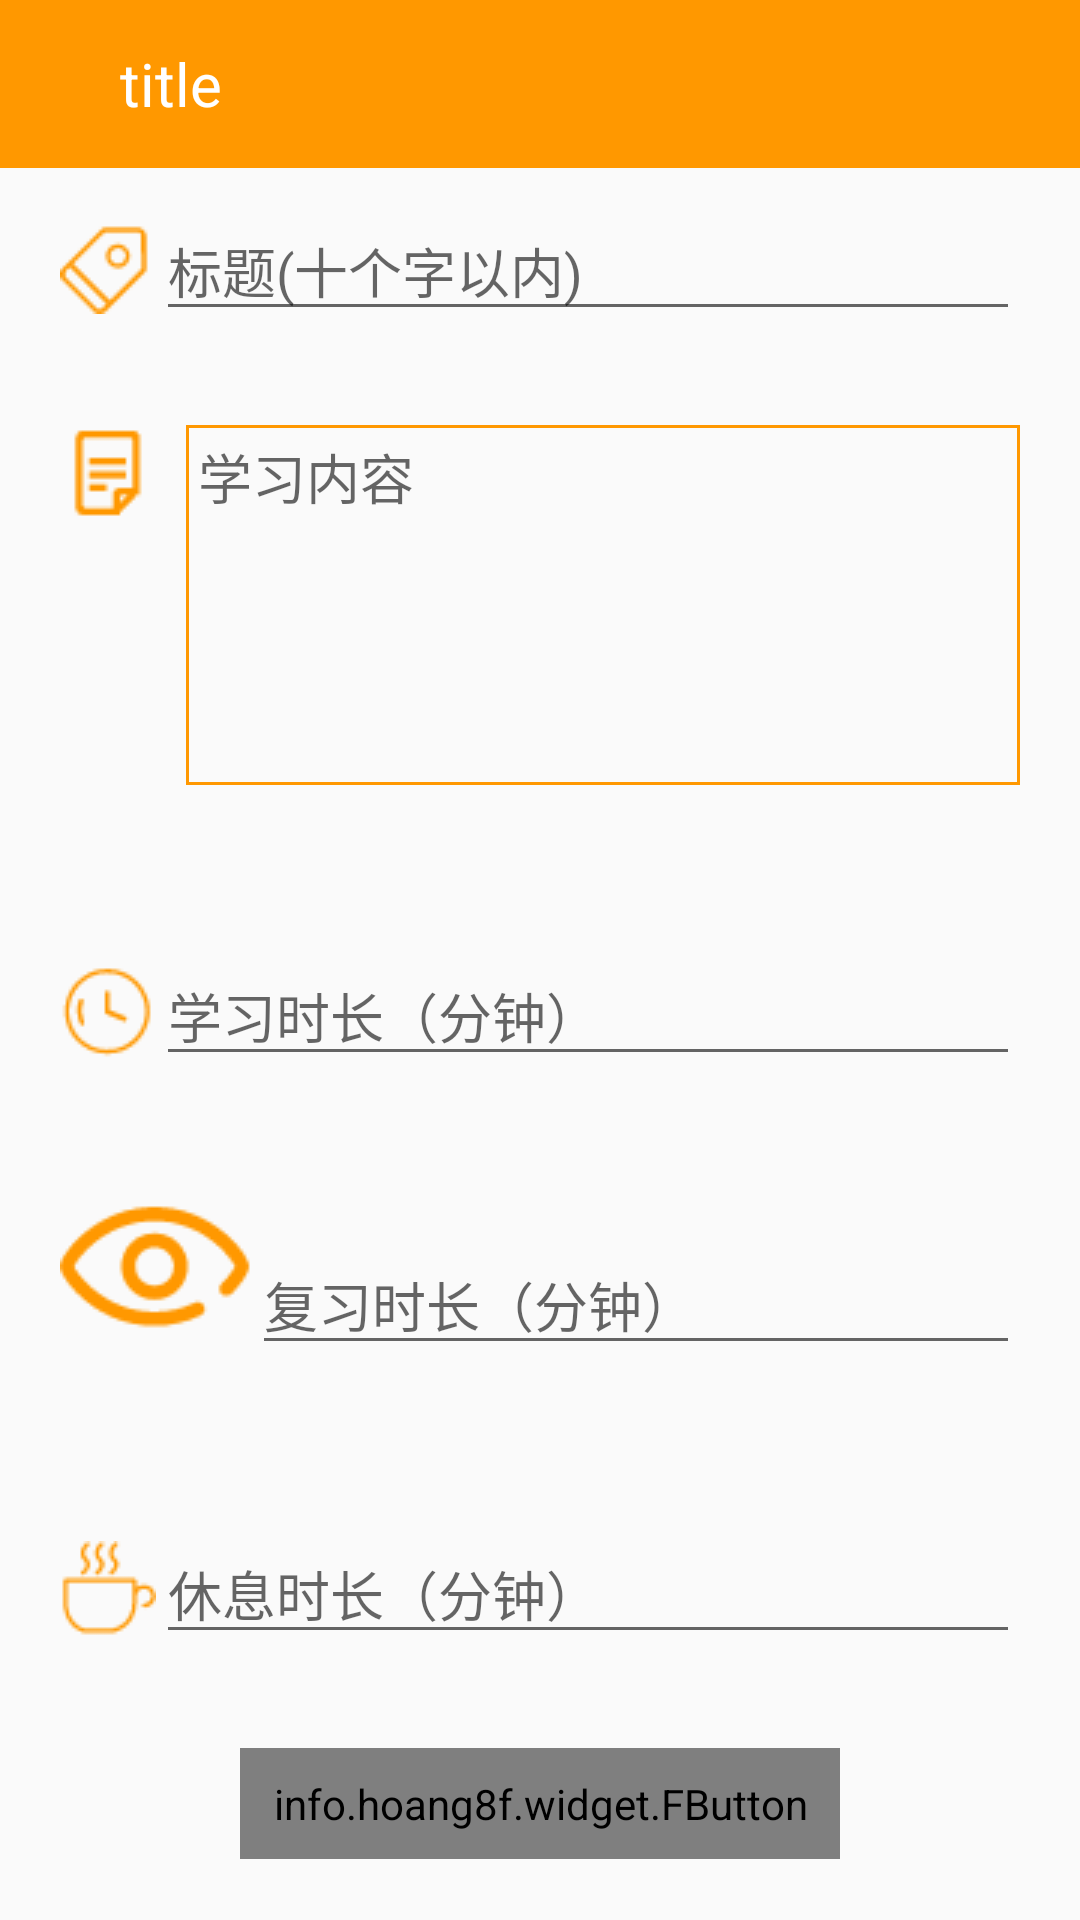

Icon click points for this 1080 x 1920 phone screenshot, format (x=x, y=y):
content: (x=108, y=473)
